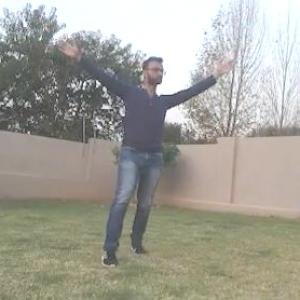takeoff: (57, 27, 236, 267)
